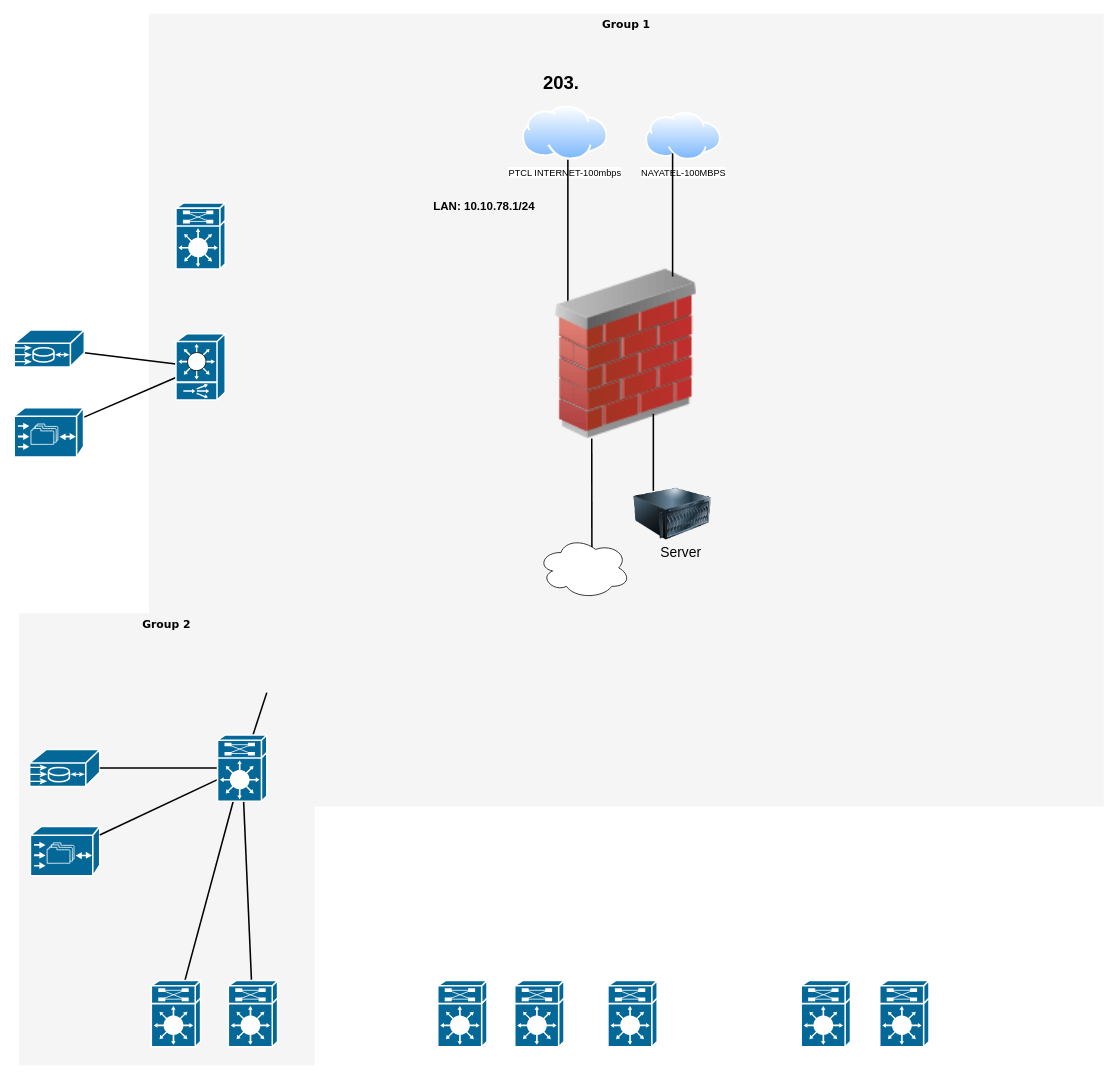
The diagram is 1117 pixels wide and 1078 high, and some of its shapes have lost their labels. Each missing label, with the centre of its shape:
LAN: the point at 583,567
Route Switch Processor: the point at 200,236
